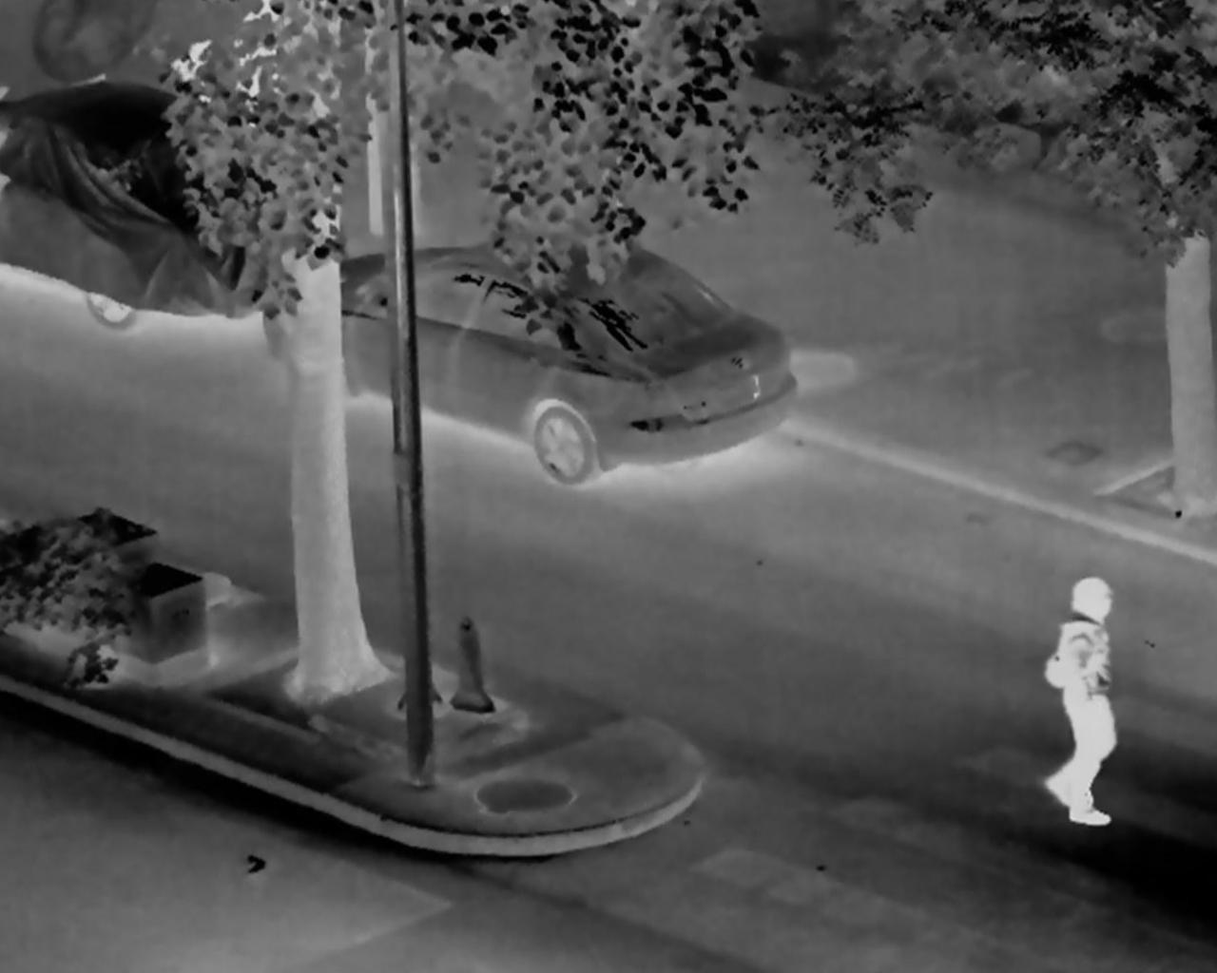person: (1036, 575, 1117, 830)
